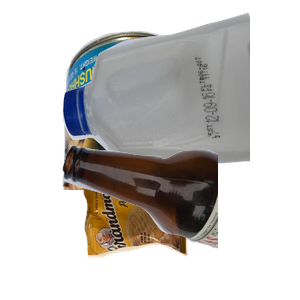glass: (60, 142, 300, 300)
metal: (60, 28, 300, 208)
plastic: (60, 10, 300, 175)
trash: (81, 168, 261, 300)
